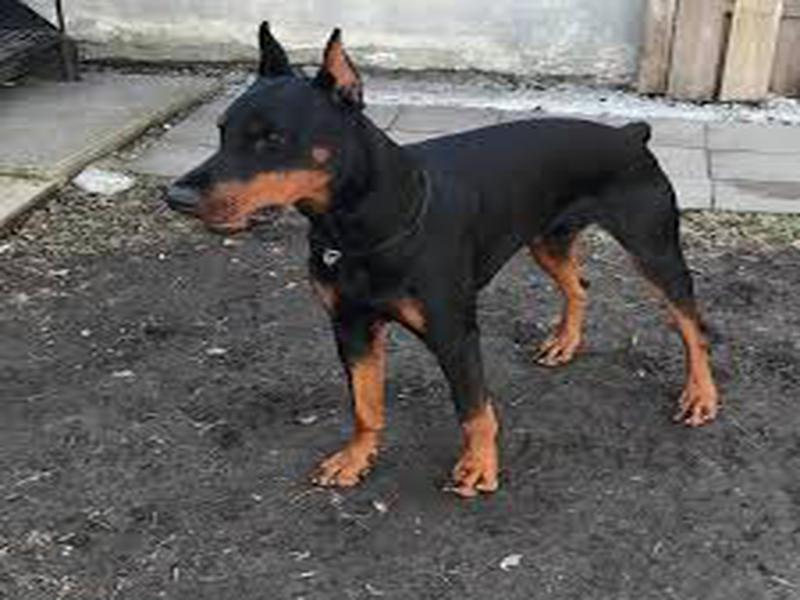dog_stand: (161, 16, 730, 506)
